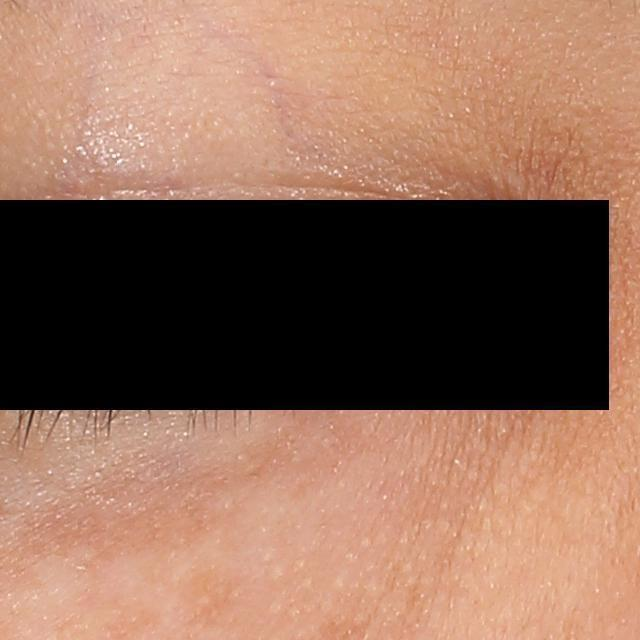melasma: (181, 561, 247, 628)
